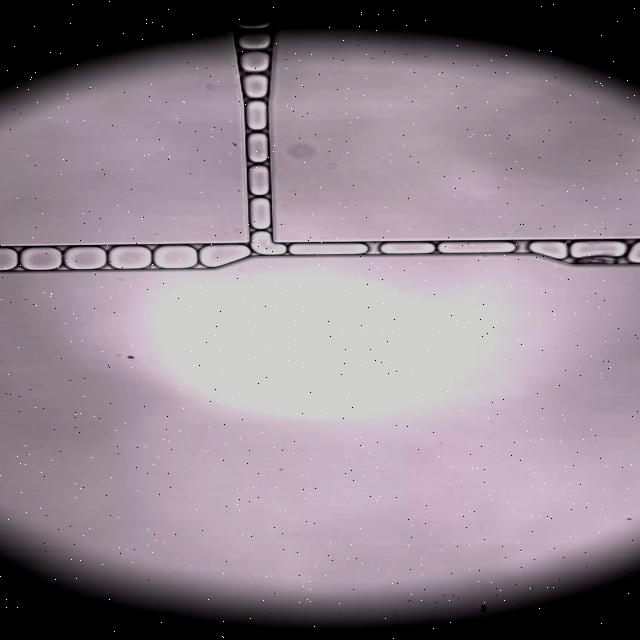L: (251, 231, 285, 254), (237, 30, 271, 50), (530, 242, 567, 260), (239, 51, 269, 73), (380, 242, 435, 254), (250, 198, 271, 229), (242, 75, 268, 99), (246, 101, 267, 130), (250, 163, 269, 195), (248, 133, 268, 162), (236, 20, 271, 29), (630, 242, 640, 263)
S: (200, 245, 250, 267), (108, 246, 151, 269), (64, 247, 106, 270), (570, 241, 626, 258), (154, 246, 197, 268), (19, 247, 60, 270), (289, 244, 367, 255), (439, 242, 515, 253), (0, 248, 16, 270)
